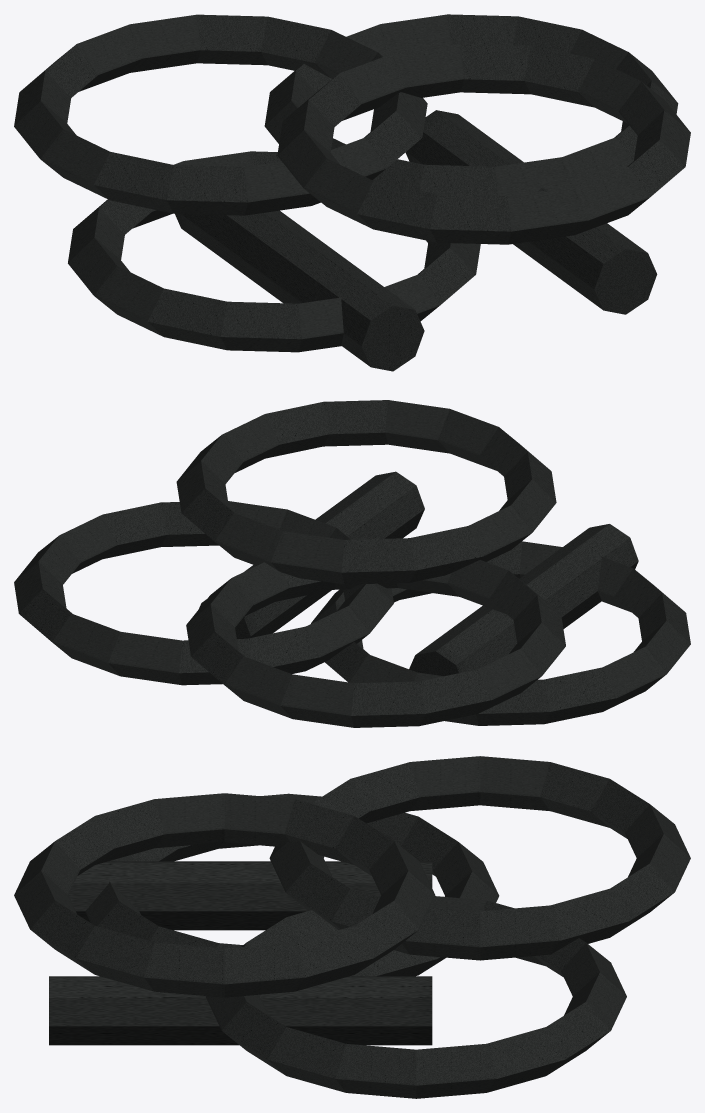
File: CompactInsulationCoil.fbx
3 views of the same model, one above another, from view 1: azimuth 30°, elevation 25°; view 2: azimuth 150°, elevation 25°; view 3: azimuth 270°, elevation 25° (orthographic). The views are drawn at different scales.
Parts seen in each view (by area): view 1: CompactInsulationCoil; view 2: CompactInsulationCoil; view 3: CompactInsulationCoil.
Boxes of the visible parts, box(x1,y1,x2,y2) form: CompactInsulationCoil: box(14, 14, 690, 371); CompactInsulationCoil: box(14, 400, 690, 727); CompactInsulationCoil: box(14, 756, 690, 1098).
Bounding box in the file's own units: 45.4 × 10.1 × 42.4.
1 material, 1 textured.
